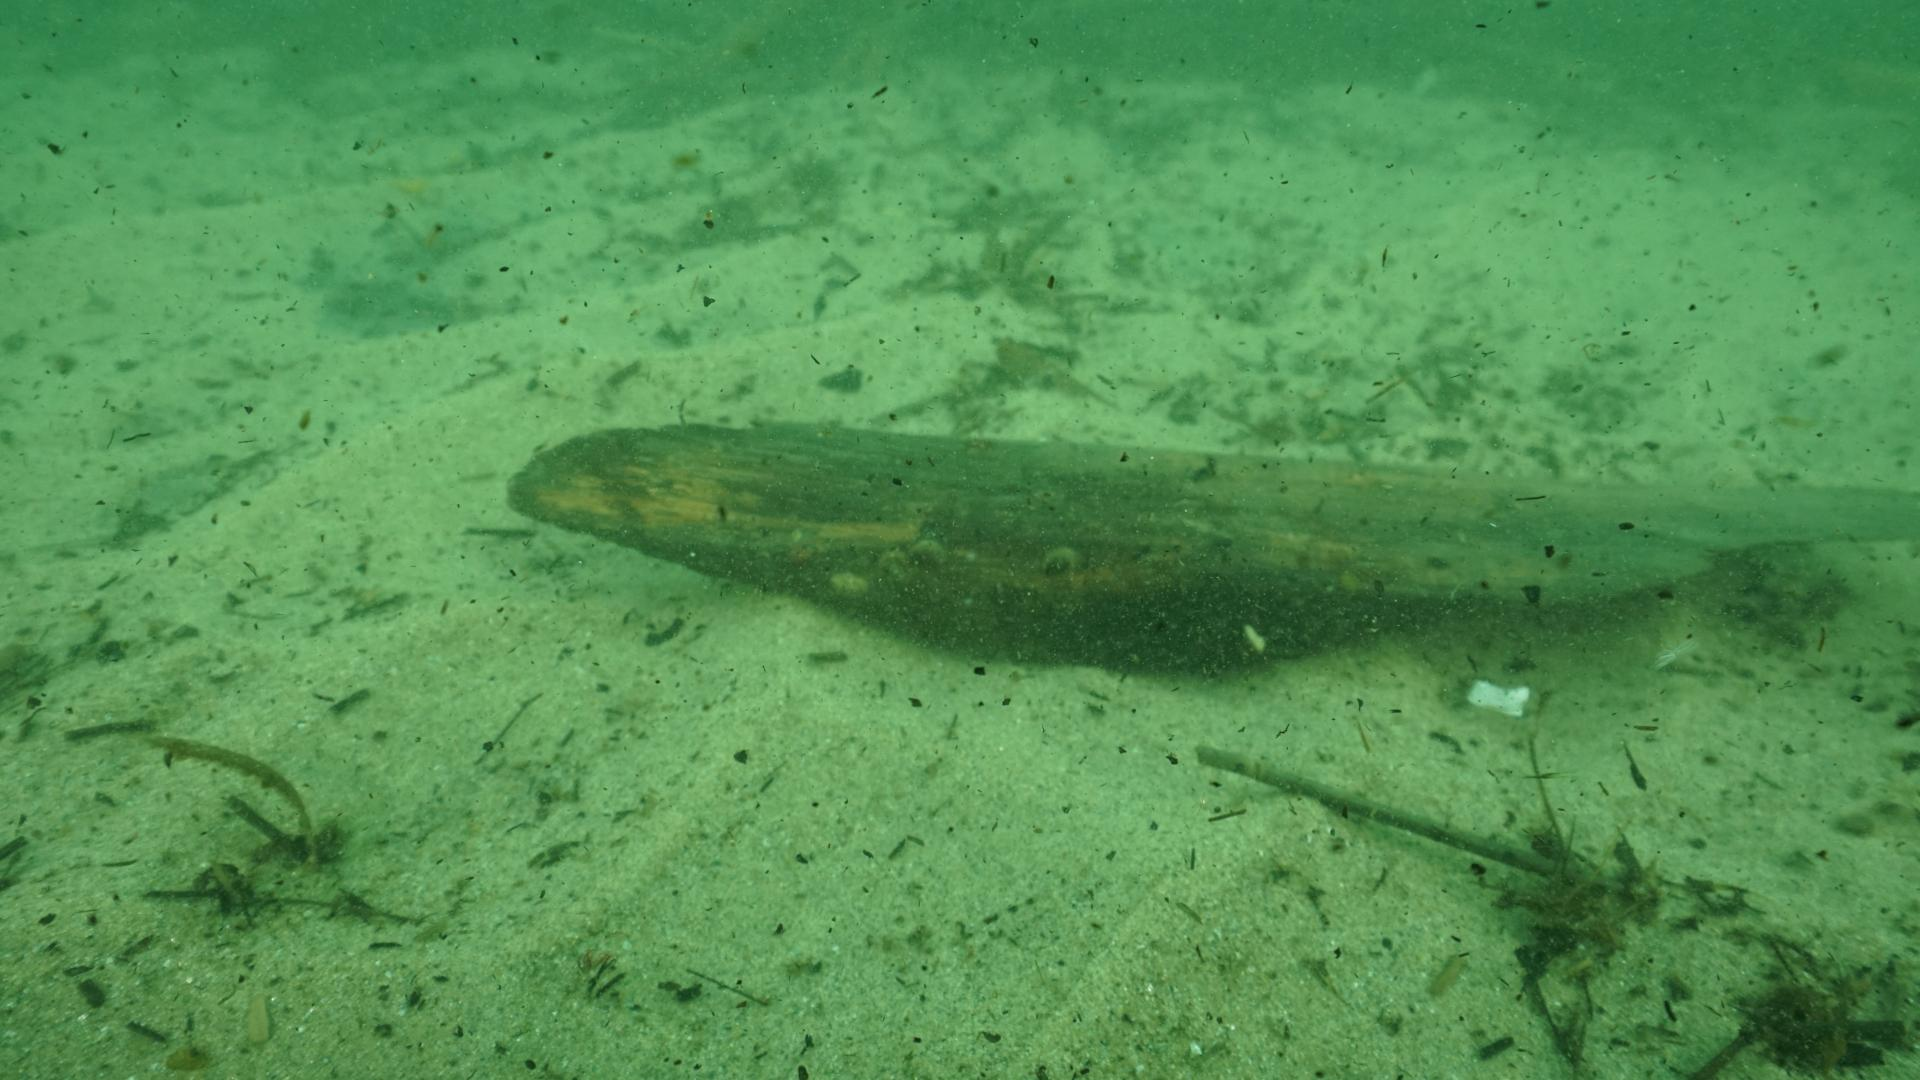wood: (508, 419, 1920, 676)
